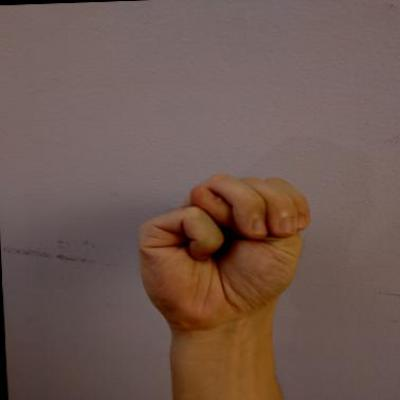hand: (125, 165, 323, 342)
